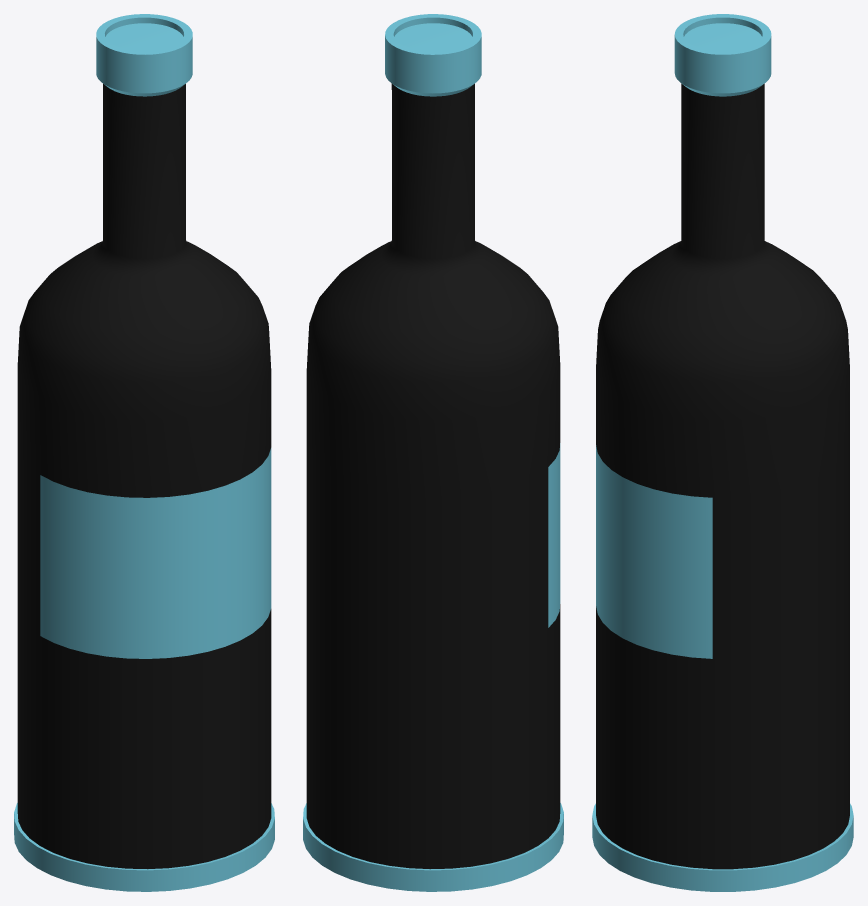
Rendered from bouteille.fbx.
3 views of the same model, side by side, from view 1: azimuth 30°, elevation 25°; view 2: azimuth 150°, elevation 25°; view 3: azimuth 270°, elevation 25° (orthographic).
Visible parts, largest first — view 1: bouteille; view 2: bouteille; view 3: bouteille.
Part boxes in pixels (x1,y1,x2,y2): bouteille: (14, 14, 274, 891); bouteille: (303, 14, 563, 891); bouteille: (592, 14, 853, 891).
Size of the model in its own units: 9.11 by 30.96 by 9.14.
